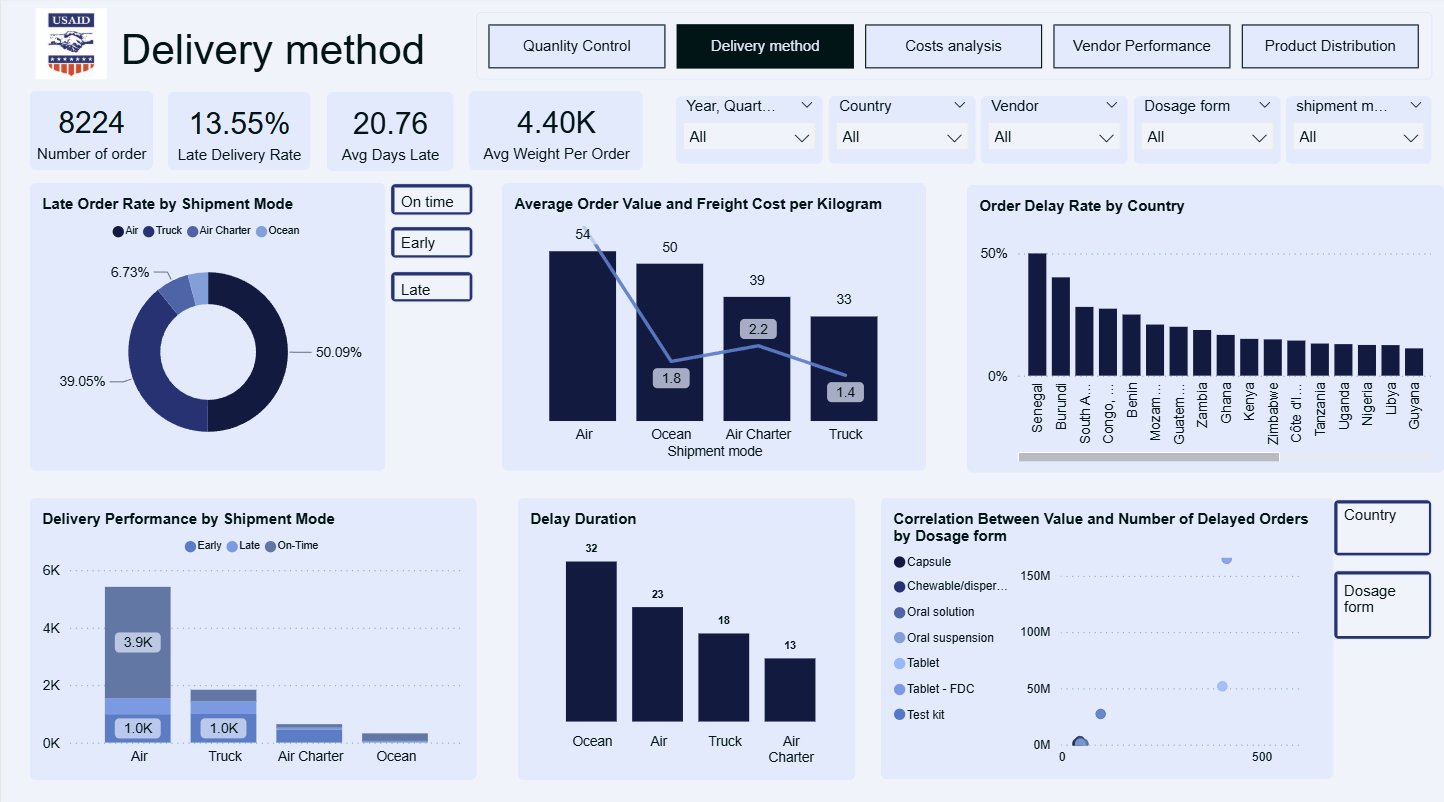

The dashboard page shown, as its layout file describes it:
{"tool":"powerbi","page":{"name":"Delivery method","canvas":[1280,720],"ordinal":1},"visuals":[{"type":"slicer","fields":{"Values":["data_cleaned.delivery recorded date.Variation.Date Hierarchy.Year","data_cleaned.delivery recorded date.Variation.Date Hierarchy.Quarter","data_cleaned.delivery recorded date.Variation.Date Hierarchy.Month","data_cleaned.delivery recorded date.Variation.Date Hierarchy.Day"]},"box":[598.5,87.8,130.3,60.3],"z":0},{"type":"textbox","box":[106.2,25.3,302.8,62.7],"z":1000},{"type":"lineStackedColumnComboChart","title":"Delivery Performance by Shipment Mode","fields":{"Category":["data_cleaned.shipment mode"],"Series":["data_cleaned.Delivery_Status"],"Y":["CountNonNull(data_cleaned.id)"]},"box":[25.3,444,395.7,249.7],"z":2000},{"type":"donutChart","title":"Late Order Rate by Shipment Mode","fields":{"Category":["data_cleaned.shipment mode"],"Y":["CountNonNull(data_cleaned.id)"]},"box":[25.3,165.3,314.9,254.6],"z":3000},{"type":"slicer","fields":{"Values":["data_cleaned.country"]},"box":[734,88.1,130,60.3],"z":4000},{"type":"slicer","fields":{"Values":["data_cleaned.vendor"]},"box":[869.1,88.1,130,60.3],"z":6000},{"type":"slicer","fields":{"Values":["data_cleaned.dosage form"]},"box":[1004.3,88.1,130,60.3],"z":8000},{"type":"clusteredColumnChart","title":"Delay Duration","fields":{"Category":["data_cleaned.shipment mode"],"Y":["data_cleaned.Avg_Days_Late"]},"box":[458.4,444,299.2,249.7],"z":9000},{"type":"slicer","fields":{"Values":["data_cleaned.shipment mode"]},"box":[1139.4,87.8,129.5,60.3],"z":10000},{"type":"scatterChart","title":"Correlation Between Value and Number of Delayed Orders by Country","fields":{"Y":["Sum(data_cleaned.line item value)"],"Series":["data_cleaned.country"],"X":["data_cleaned.id"]},"box":[780.3,444.2,400.8,249.2],"z":11000},{"type":"columnChart","title":"Order Delay Rate by Country","fields":{"Category":["data_cleaned.country"],"Y":["data_cleaned.Late_Delivery_Rate"]},"box":[856.6,166.5,423.5,254.6],"z":12000},{"type":"card","title":"Tỉ lệ trễ ","fields":{"Values":["data_cleaned.Late_Delivery_Rate"]},"box":[148.4,84.2,125.9,69.2],"z":13000},{"type":"lineClusteredColumnComboChart","title":"Average Order Value and Freight Cost per Kilogram","fields":{"Category":["data_cleaned.shipment mode"],"Y2":["data_cleaned.Freight_Cost_Per_KG"],"Y":["data_cleaned.Item_Value_Per_KG"]},"box":[444,165.3,376.4,254.6],"z":14000},{"type":"card","title":"Cân nặng trung bình mỗi đơn (kg)","fields":{"Values":["data_cleaned.Avg_Weight_Per_Order"]},"box":[415,83.5,154.4,70],"z":15000},{"type":"scatterChart","title":"Correlation Between Value and Number of Delayed Orders by Dosage form","fields":{"Y":["Sum(data_cleaned.line item value)"],"X":["data_cleaned.id"],"Series":["data_cleaned.dosage form"]},"box":[780.3,444.2,391.9,249.2],"z":16000},{"type":"actionButton","box":[345,165.3,73.6,29],"z":17000},{"type":"card","title":"Số ngày trễ TB ","fields":{"Values":["data_cleaned.Avg_Days_Late"]},"box":[288.8,83.9,111.7,70],"z":18000},{"type":"actionButton","box":[344.9,243,73.6,28],"z":19000},{"type":"actionButton","box":[345,202.7,73.6,29],"z":20000},{"type":"actionButton","box":[1181.1,507.9,88.1,61.5],"z":21000},{"type":"actionButton","box":[1181.1,445.2,88.1,50.7],"z":22000},{"type":"pageNavigator","box":[421,13.3,848.1,60.3],"z":23000},{"type":"image","box":[17.7,0,88.7,83.3],"z":24000},{"type":"textbox","box":[354.7,173.8,55,20.4],"z":25000},{"type":"textbox","box":[354.7,210.1,46.1,21.3],"z":26000},{"type":"textbox","box":[354.7,251.8,34.6,20.4],"z":27000},{"type":"textbox","box":[1190.8,451.2,61.5,27.7],"z":28000},{"type":"textbox","box":[1190.8,518.8,61.5,39.8],"z":29000},{"type":"card","title":"Tỉ lệ trễ ","fields":{"Values":["Count(data_cleaned.id)"]},"box":[25.3,83.2,108.6,70],"z":30000}]}

Visuals, with their boxes in screenshot pixels (x1, y1, x2, y2), scaled from the page's 1280x720 canvas onto the 1444x802 screenshot:
slicer - data_cleaned.delivery recorded date.Variation.Date Hierarchy.Year x data_cleaned.delivery recorded date.Variation.Date Hierarchy.Quarter: 675/98/822/165
textbox: 120/28/461/98
"Delivery Performance by Shipment Mode" lineStackedColumnComboChart: 29/495/475/773
"Late Order Rate by Shipment Mode" donutChart: 29/184/384/468
slicer - data_cleaned.country: 828/98/975/165
slicer - data_cleaned.vendor: 980/98/1127/165
slicer - data_cleaned.dosage form: 1133/98/1280/165
"Delay Duration" clusteredColumnChart: 517/495/855/773
slicer - data_cleaned.shipment mode: 1285/98/1431/165
"Correlation Between Value and Number of Delayed Orders by Country" scatterChart: 880/495/1332/772
"Order Delay Rate by Country" columnChart: 966/185/1443/469
"Tỉ lệ trễ " card: 167/94/309/171
"Average Order Value and Freight Cost per Kilogram" lineClusteredColumnComboChart: 501/184/926/468
"Cân nặng trung bình mỗi đơn (kg)" card: 468/93/642/171
"Correlation Between Value and Number of Delayed Orders by Dosage form" scatterChart: 880/495/1322/772
actionButton: 389/184/472/216
"Số ngày trễ TB " card: 326/93/452/171
actionButton: 389/271/472/302
actionButton: 389/226/472/258
actionButton: 1332/566/1432/634
actionButton: 1332/496/1432/552
pageNavigator: 475/15/1432/82
image: 20/0/120/93
textbox: 400/194/462/216
textbox: 400/234/452/258
textbox: 400/280/439/303
textbox: 1343/503/1413/533
textbox: 1343/578/1413/622
"Tỉ lệ trễ " card: 29/93/151/171
